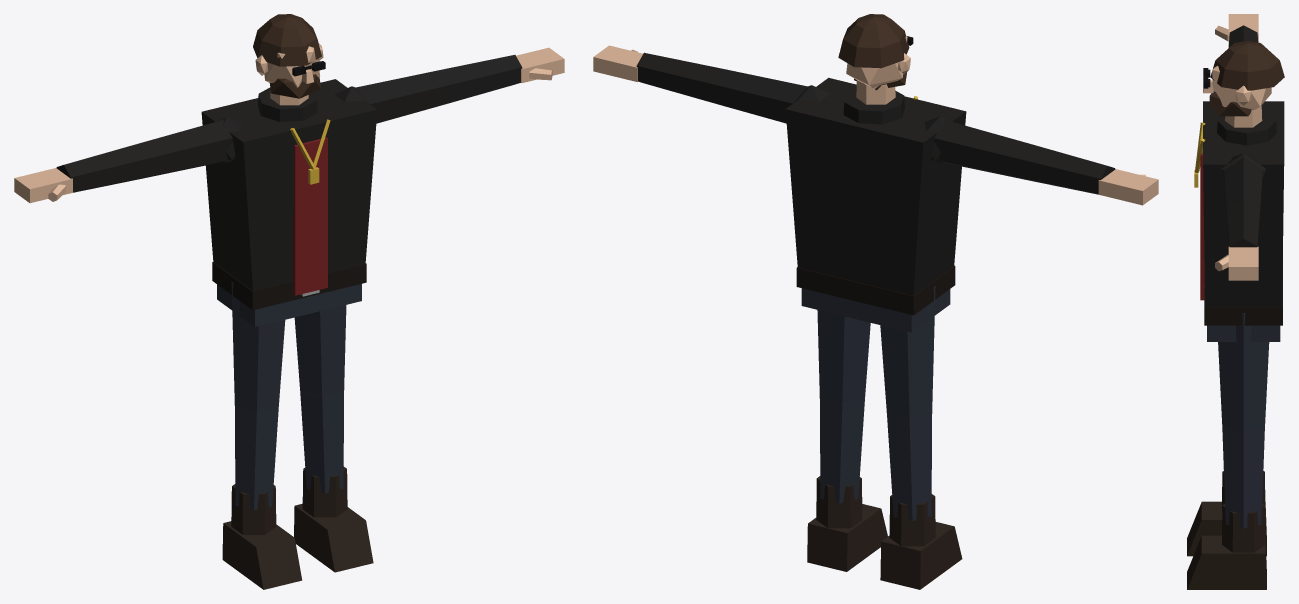
Rendered from Gang_Biker.glb.
The picture shows the model from 3 angles, left to right: view 1: azimuth 30°, elevation 25°; view 2: azimuth 150°, elevation 25°; view 3: azimuth 270°, elevation 25°; orthographic projection. The views are drawn at different scales.
Parts seen in each view (by area): view 1: Gang_Biker; view 2: Gang_Biker; view 3: Gang_Biker.
Boxes of the visible parts, x1=… form: Gang_Biker: x1=14, y1=14, x2=564, y2=589; Gang_Biker: x1=593, y1=14, x2=1158, y2=589; Gang_Biker: x1=1187, y1=14, x2=1284, y2=589.
Bounding box in the file's own units: 1.8 × 1.73 × 0.294.
